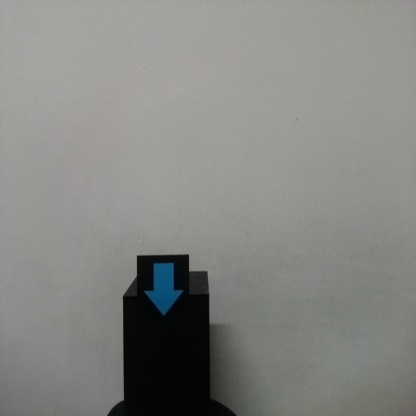id_2: (137, 255, 190, 325)
